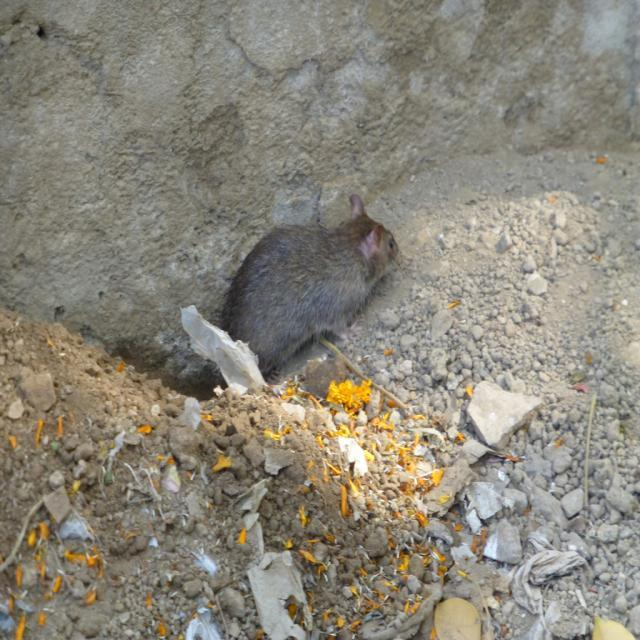rat: (216, 194, 406, 374)
